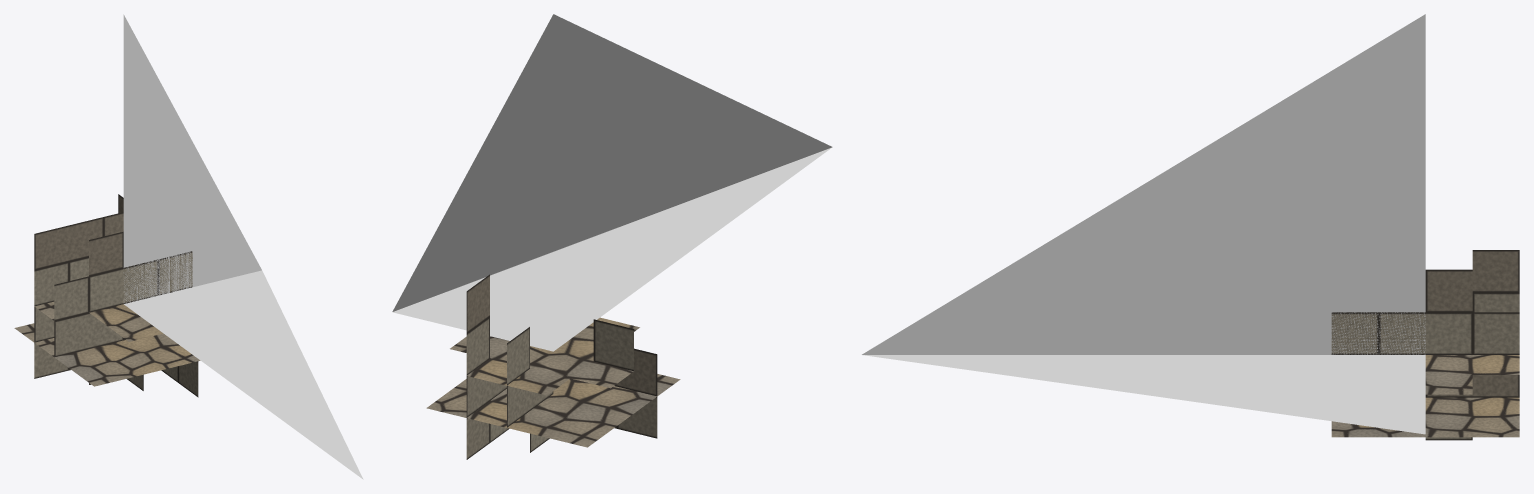
File: tiles.glb
3 views of the same model, side by side, from view 1: azimuth 30°, elevation 25°; view 2: azimuth 150°, elevation 25°; view 3: azimuth 270°, elevation 25° (orthographic). The views are drawn at different scales.
Parts seen in each view (by area): view 1: mb_frame, tetra_b1h3, edge_inner_b2h4, slab_b4h0, edge_b1h1, tetra_b3h1, ell_b3h0, edge_b0h2, ell_b0h3, corner_b0h1, edge_inner_b4h2, tetra_b3h1_outdoor (+11 smaller); view 2: mb_frame, twist_left_b1h3, ell_b2h1_b, ell_b3h0, ell_b3h0_outdoor, ell_b1h2_b, tetra_b3h1, twist_left_b2h2, edge_b2h0, twist_left_b3h1_outdoor, tetra_b3h1_outdoor, spike_b1h1 (+10 smaller); view 3: mb_frame, corner_inner_b3h4, tetra_b1h3, twist_right_b3h1, ell_b0h3, ell_b1h2_a, corner_b0h1, edge_b1h1, edge_b2h0, twist_right_b3h1_outdoor, ell_b2h1_a, ell_inner_b3h2_b (+6 smaller).
Part boxes in pixels (x1,y1,x2,y2): mb_frame: (123, 14, 363, 479); tetra_b1h3: (54, 231, 123, 320); edge_inner_b2h4: (123, 251, 192, 303); slab_b4h0: (89, 334, 197, 377); edge_b1h1: (34, 226, 68, 375); tetra_b3h1: (35, 301, 123, 357); ell_b3h0: (35, 338, 128, 386); edge_b0h2: (36, 212, 123, 267); ell_b0h3: (89, 232, 123, 276); corner_b0h1: (34, 225, 68, 269); edge_inner_b4h2: (91, 335, 197, 377); tetra_b3h1_outdoor: (34, 302, 123, 356); mb_frame: (392, 14, 832, 351); twist_left_b1h3: (593, 319, 657, 437); ell_b2h1_b: (466, 274, 529, 427); ell_b3h0: (530, 374, 680, 430); ell_b3h0_outdoor: (428, 374, 679, 437); ell_b1h2_b: (466, 327, 529, 459); tetra_b3h1: (509, 351, 633, 394); twist_left_b2h2: (450, 327, 529, 458); edge_b2h0: (426, 391, 569, 437); twist_left_b3h1_outdoor: (466, 318, 640, 443); tetra_b3h1_outdoor: (521, 352, 632, 393); spike_b1h1: (466, 276, 673, 438); mb_frame: (862, 14, 1425, 434); corner_inner_b3h4: (1331, 312, 1461, 396); tetra_b1h3: (1425, 269, 1519, 354); twist_right_b3h1: (1331, 397, 1472, 437); ell_b0h3: (1425, 269, 1472, 312); ell_b1h2_a: (1472, 312, 1519, 354); corner_b0h1: (1472, 250, 1519, 292); edge_b1h1: (1472, 250, 1519, 312); edge_b2h0: (1472, 397, 1519, 437); twist_right_b3h1_outdoor: (1331, 375, 1519, 437); ell_b2h1_a: (1472, 375, 1519, 437); ell_inner_b3h2_b: (1425, 355, 1472, 394).
Size of the model in its own units: 1.5 by 2.5 by 3.5.
2 materials, 2 textured.
